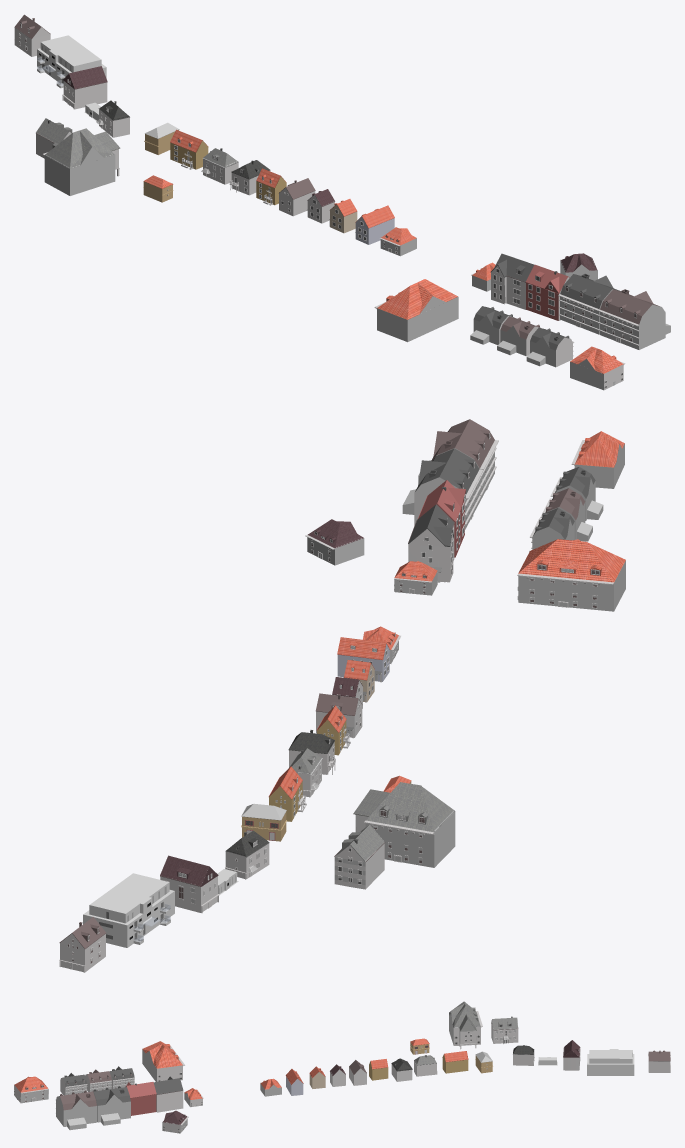
The model's file is All_houses.fbx.
3 views of the same model, one above another, from view 1: azimuth 30°, elevation 25°; view 2: azimuth 150°, elevation 25°; view 3: azimuth 270°, elevation 25° (orthographic). The views are drawn at different scales.
Visible parts, largest first — view 1: house_big2right_wall (×3), house_big2roof3 (×3), house_big1roof3 (×2), bulding, house_big1curnish_base1 (×2), house_big1back_wall (×3), house_big1right_wall, wall, house11_wall_cone, house11_roof, polySurface118, house9wall (+1 smaller); view 2: house_big2roof3 (×4), bulding, house_big2side_wall (×2), house_big1roof3 (×2), house4wall, wall, house11_roof, house3_wall, house5_wall, polySurface118, house9roof_roof_corner1; view 3: house_big2roof3 (×4), house_big1roof3 (×5), house_big1back_wall (×2), bulding, house7wall_7 (×2), house5_wall (×2), house10wall, house11_wall_cone, house11_roof, house10_roof1_polySurface118, house4wall, house_big2left_wall (+9 smaller).
Part boxes in pixels (x1,y1,x2,y2): house_big2right_wall (×3): [44, 154, 603, 390]; house_big2roof3 (×3): [45, 128, 623, 373]; house_big1roof3 (×2): [560, 273, 659, 324]; bulding: [37, 35, 106, 88]; house_big1curnish_base1 (×2): [558, 294, 638, 349]; house_big1back_wall (×3): [470, 315, 555, 367]; house_big1right_wall: [639, 304, 665, 349]; wall: [63, 81, 107, 109]; house11_wall_cone: [526, 282, 560, 320]; house11_roof: [525, 264, 569, 293]; polySurface118: [63, 66, 107, 89]; house9wall: [355, 218, 394, 244]; house_big2roof3 (×4): [308, 431, 625, 832]; bulding: [83, 873, 174, 947]; house_big2side_wall (×2): [365, 576, 613, 867]; house_big1roof3 (×2): [415, 419, 494, 494]; house4wall: [334, 842, 384, 889]; wall: [160, 876, 217, 912]; house11_roof: [418, 480, 465, 521]; house3_wall: [60, 934, 105, 972]; house5_wall: [225, 843, 269, 879]; polySurface118: [160, 855, 217, 886]; house9roof_roof_corner1: [337, 637, 389, 660]; house_big2roof3 (×4): [14, 1001, 480, 1124]; house_big1roof3 (×5): [60, 1066, 134, 1110]; house_big1back_wall (×2): [63, 1095, 130, 1130]; bulding: [587, 1049, 634, 1075]; house7wall_7 (×2): [369, 1058, 468, 1080]; house5_wall (×2): [414, 1050, 534, 1076]; house10wall: [156, 1091, 183, 1112]; house11_wall_cone: [130, 1094, 156, 1115]; house11_roof: [125, 1082, 156, 1098]; house10_roof1_polySurface118: [153, 1078, 183, 1094]; house4wall: [491, 1025, 518, 1043]; house_big2left_wall: [157, 1065, 182, 1081].
Size of the model in its own units: 41.15 by 6.62 by 110.
